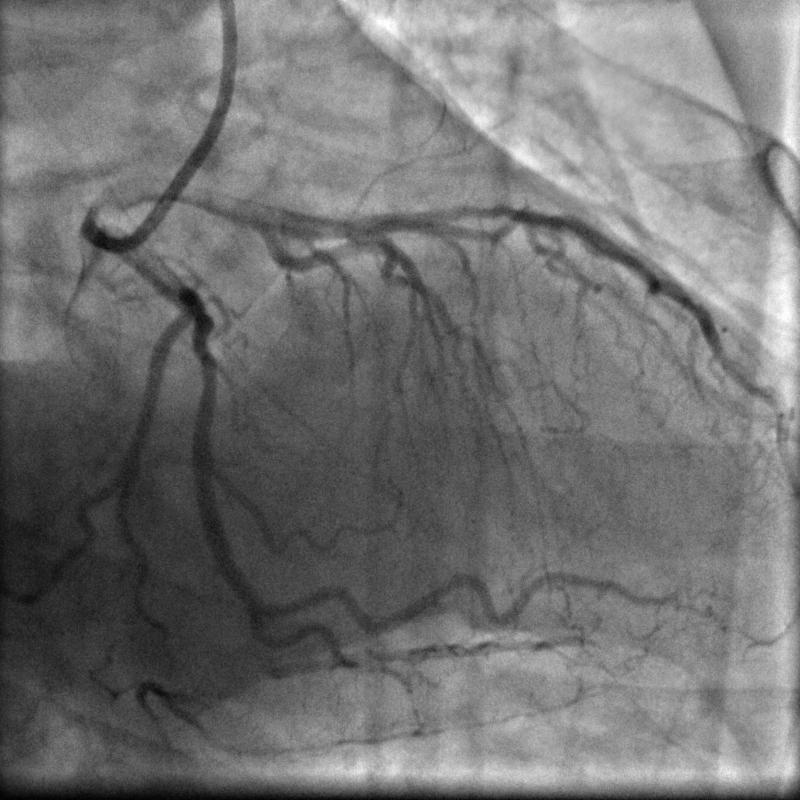Stenosis: (185, 312, 224, 376)
